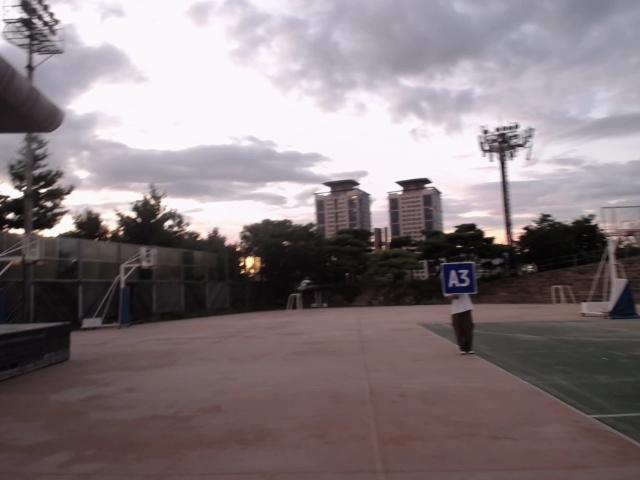delivery_a3: (441, 263, 475, 295)
